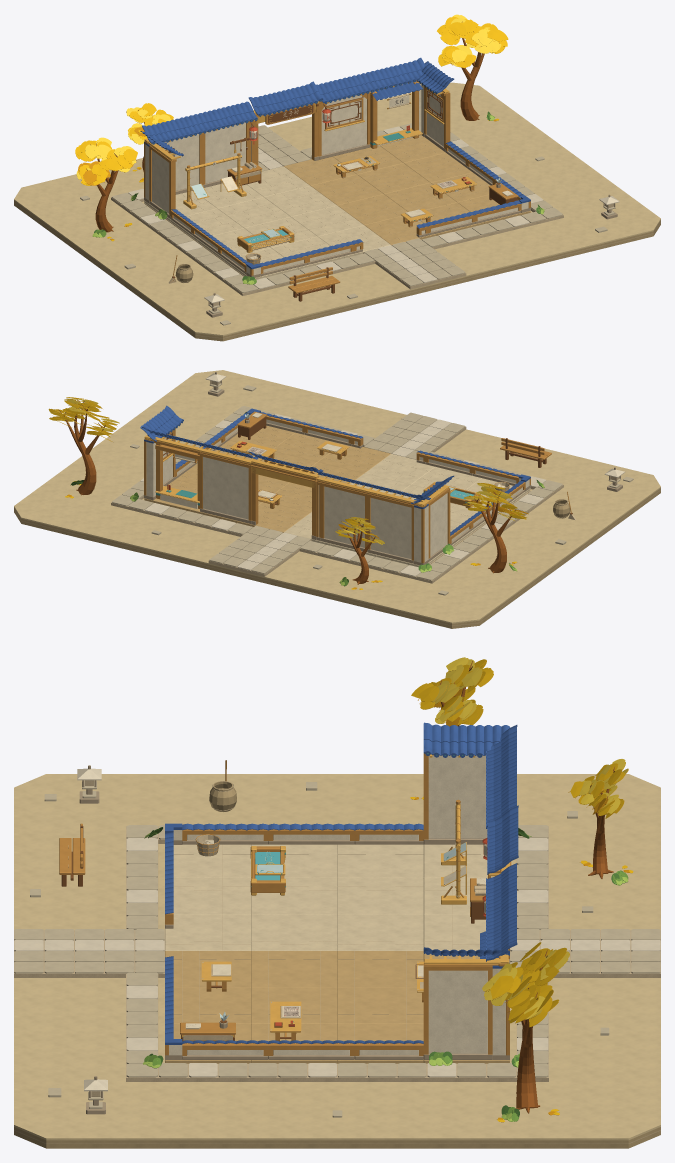
File: WorkshopV05.glb
3 renders of one model, top to bottom at view 1: azimuth 30°, elevation 25°; view 2: azimuth 150°, elevation 25°; view 3: azimuth 270°, elevation 25°, orthographic. The views are drawn at different scales.
Parts seen in each view (by area): view 1: exterior_ground_paper_layer_3, exterior_path_perimeter_slabs_paving, exterior_ground_paper_layer_0, exterior_path_front_entry_slabs_paving, wall_back_01_paper_panel, exterior_path_perimeter_slabs_paving_light, exterior_ground_paper_layer_2, env_ginkgo_east__ginkgo_gold, wall_back_03_paper_panel, eave_portal_attached_two_courses_blue_paper_tiles, env_floor_courtyard_02_01_slab, exterior_path_perimeter_continuous_paper_underlay (+41 smaller); view 2: exterior_ground_paper_layer_3, exterior_path_perimeter_slabs_paving, wall_back_03_paper_panel, exterior_ground_paper_layer_0, wall_back_00_paper_panel, exterior_path_rear_entry_slabs_paving, exterior_path_front_entry_slabs_paving, wall_back_01_paper_panel, exterior_ground_paper_layer_2, exterior_path_perimeter_slabs_paving_light, exterior_path_perimeter_continuous_paper_underlay, env_floor_courtyard_02_00_slab (+30 smaller); view 3: exterior_ground_paper_layer_3, exterior_path_perimeter_slabs_paving, exterior_path_front_entry_slabs_paving, wall_right_back_paper_panel, wall_left_back_paper_panel, exterior_path_perimeter_slabs_paving_light, exterior_path_rear_entry_slabs_paving, exterior_ground_paper_layer_0, env_floor_courtyard_01_02_slab, env_floor_workshop_03_01_slab, env_floor_courtyard_02_01_slab, env_floor_courtyard_02_02_slab (+40 smaller).
Boxes of the visible parts, box(x1,y1,x2,y2) form: exterior_ground_paper_layer_3: box(14, 82, 660, 336); exterior_path_perimeter_slabs_paving: box(112, 123, 562, 292); exterior_ground_paper_layer_0: box(14, 203, 660, 341); exterior_path_front_entry_slabs_paving: box(364, 238, 465, 286); wall_back_01_paper_panel: box(205, 122, 245, 183); exterior_path_perimeter_slabs_paving_light: box(128, 126, 543, 288); exterior_ground_paper_layer_2: box(14, 200, 660, 338); env_ginkgo_east__ginkgo_gold: box(437, 16, 508, 67); wall_back_03_paper_panel: box(321, 95, 366, 155); eave_portal_attached_two_courses_blue_paper_tiles: box(248, 82, 321, 115); env_floor_courtyard_02_01_slab: box(291, 205, 363, 236); exterior_path_perimeter_continuous_paper_underlay: box(111, 144, 563, 295); exterior_ground_paper_layer_3: box(14, 370, 660, 623); exterior_path_perimeter_slabs_paving: box(112, 406, 562, 580); wall_back_03_paper_panel: box(203, 457, 248, 519); exterior_ground_paper_layer_0: box(14, 490, 660, 628); wall_back_00_paper_panel: box(370, 498, 411, 559); exterior_path_rear_entry_slabs_paving: box(209, 525, 310, 573); exterior_path_front_entry_slabs_paving: box(364, 412, 465, 459); wall_back_01_paper_panel: box(324, 486, 364, 547); exterior_ground_paper_layer_2: box(14, 488, 660, 625); exterior_path_perimeter_slabs_paving_light: box(140, 414, 546, 576); exterior_path_perimeter_continuous_paper_underlay: box(111, 445, 563, 583); env_floor_courtyard_02_00_slab: box(365, 454, 435, 484); exterior_ground_paper_layer_3: box(14, 774, 660, 1140); exterior_path_perimeter_slabs_paving: box(126, 825, 548, 1077); exterior_path_front_entry_slabs_paving: box(14, 929, 164, 973); wall_right_back_paper_panel: box(428, 970, 487, 1053); wall_left_back_paper_panel: box(428, 755, 487, 838); exterior_path_perimeter_slabs_paving_light: box(126, 838, 548, 1077); exterior_path_rear_entry_slabs_paving: box(510, 929, 660, 973); exterior_ground_paper_layer_0: box(14, 1130, 660, 1148); env_floor_courtyard_01_02_slab: box(337, 878, 423, 914); env_floor_workshop_03_01_slab: box(251, 951, 337, 987); env_floor_courtyard_02_01_slab: box(251, 914, 337, 950); env_floor_courtyard_02_02_slab: box(337, 914, 423, 950).
Size of the model in its own units: 20 by 4.2 by 15.
73 materials, 68 textured.
